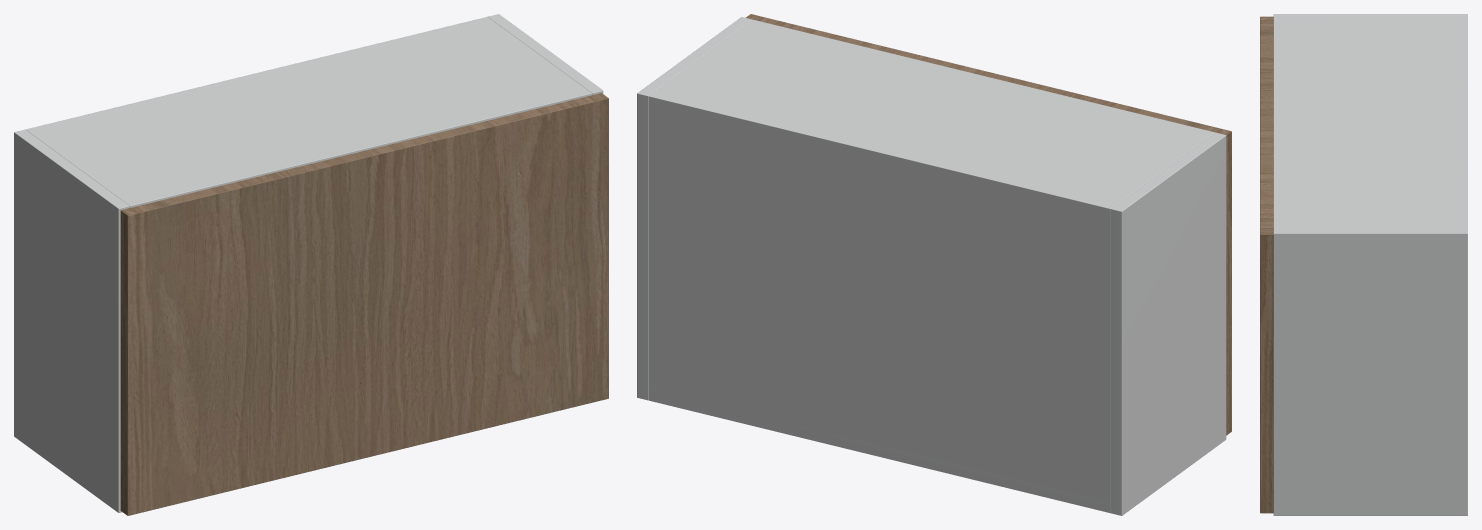
File: oppein-ply-mnw-wsl3018.glb
3 views of the same model, side by side, from view 1: azimuth 30°, elevation 25°; view 2: azimuth 150°, elevation 25°; view 3: azimuth 270°, elevation 25° (orthographic). The views are drawn at different scales.
Visible parts, largest first — view 1: Door, Cabinet top, Cabinet side, Cabinet back, Cabinet side.001; view 2: Cabinet back, Cabinet top, Cabinet side, Cabinet side.001, Door, Cabinet bottom; view 3: Cabinet side.001, Cabinet top, Door, Cabinet back, Cabinet side.
Boxes of the visible parts, left/top/right/bottom form: Door: left=120, top=93, right=608, bottom=515; Cabinet top: left=26, top=17, right=591, bottom=207; Cabinet side: left=14, top=129, right=129, bottom=512; Cabinet back: left=25, top=16, right=490, bottom=132; Cabinet side.001: left=488, top=14, right=603, bottom=95; Cabinet back: left=648, top=93, right=1114, bottom=512; Cabinet top: left=649, top=19, right=1214, bottom=218; Cabinet side: left=1110, top=132, right=1226, bottom=515; Cabinet side.001: left=637, top=17, right=752, bottom=400; Door: left=746, top=14, right=1231, bottom=435; Cabinet bottom: left=648, top=390, right=1110, bottom=512; Cabinet side.001: left=1273, top=228, right=1467, bottom=515; Cabinet top: left=1273, top=19, right=1467, bottom=228; Door: left=1260, top=16, right=1273, bottom=513; Cabinet back: left=1460, top=19, right=1467, bottom=228; Cabinet side: left=1273, top=14, right=1467, bottom=19.
Bounding box in the file's own units: 0.762 × 0.4572 × 0.3048.
2 materials, 1 textured.
